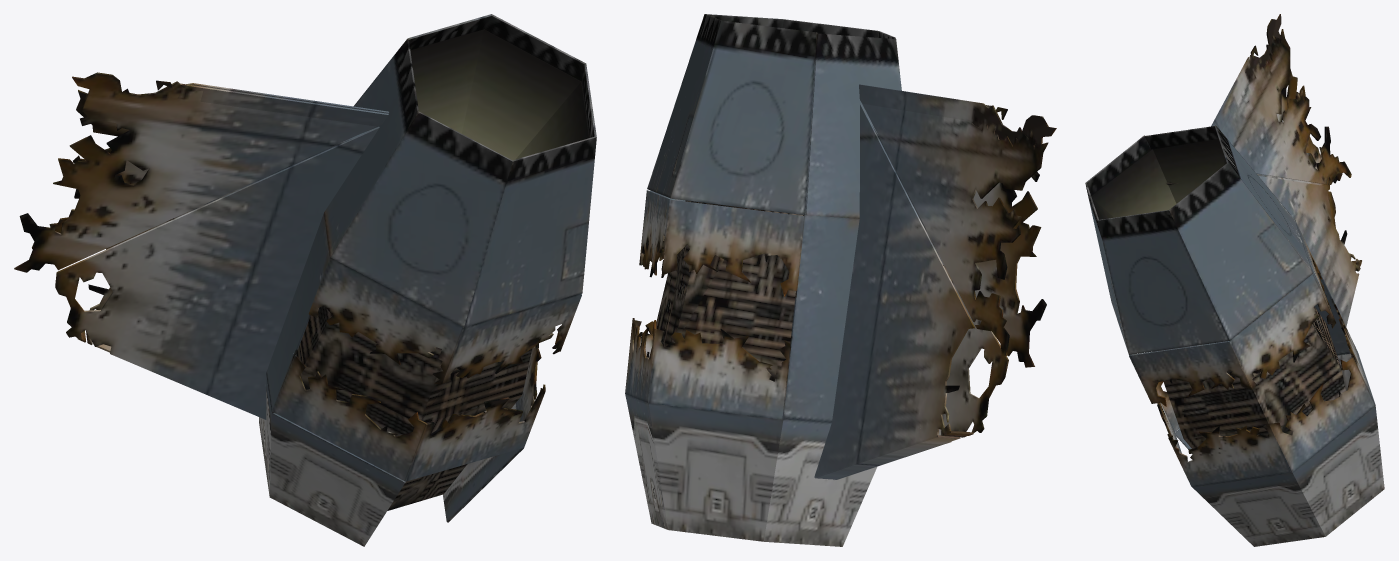
The model's file is crashengine_cad.glb.
3 views of the same model, side by side, from view 1: azimuth 30°, elevation 25°; view 2: azimuth 150°, elevation 25°; view 3: azimuth 270°, elevation 25° (orthographic). The views are drawn at different scales.
Parts seen in each view (by area): view 1: Crash Engine; view 2: Crash Engine; view 3: Crash Engine.
Part boxes in pixels (left/top/right/bottom): Crash Engine: left=14, top=14, right=596, bottom=546; Crash Engine: left=625, top=14, right=1056, bottom=546; Crash Engine: left=1085, top=14, right=1384, bottom=546.
Size of the model in its own units: 22.9 by 23.69 by 16.02.
Materials: 1 (1 with a texture image).
